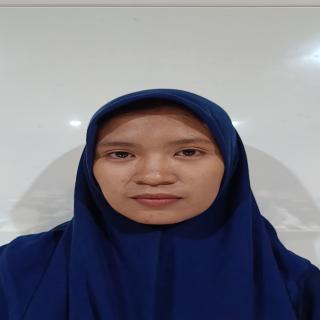Netral: (85, 103, 240, 229)
